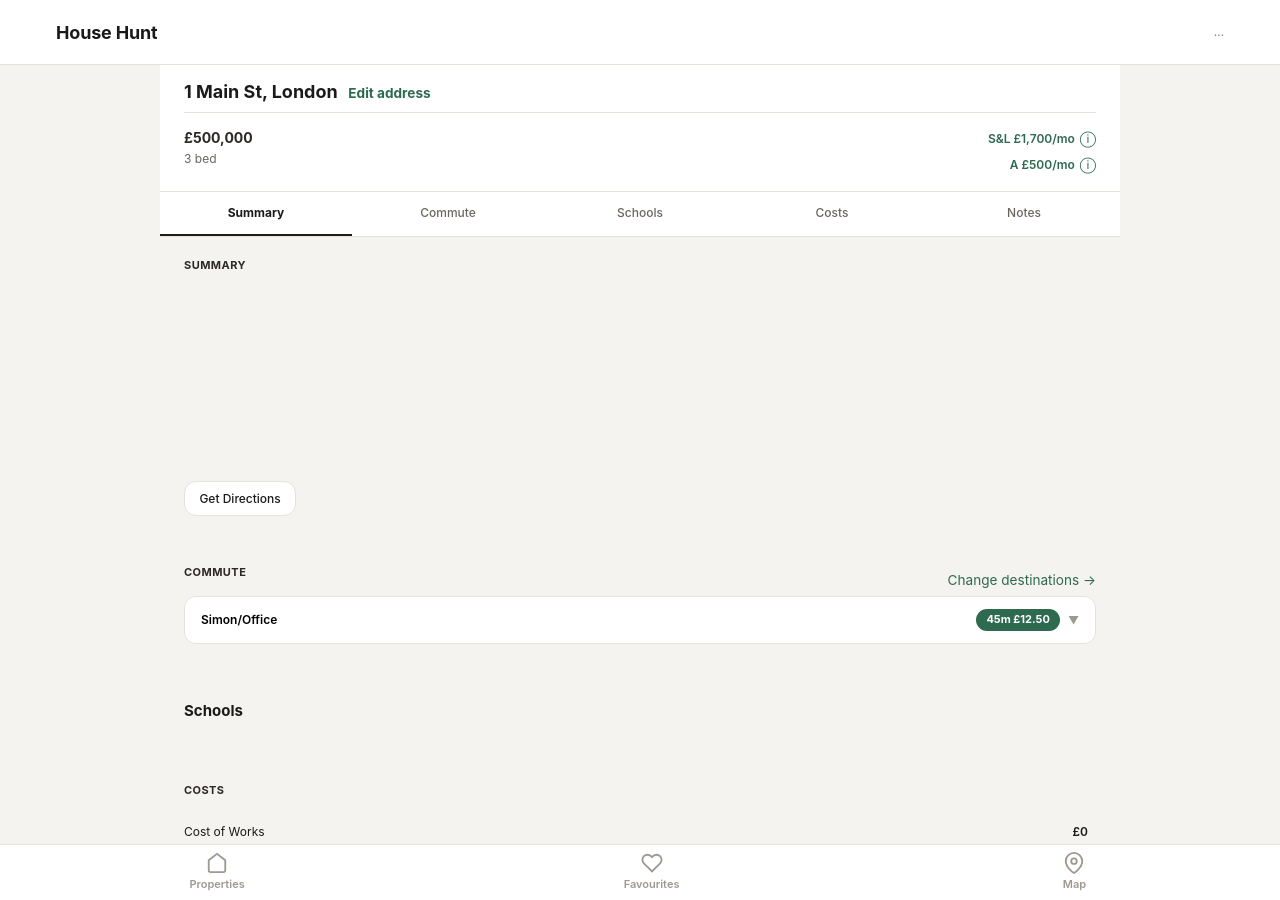
Test: PropertyDetail renders commute legs from CostGroups › renders leg details with mode and duration from nested CostGroups
The width and height of the screenshot is (1280, 900).
# Click accordion header to expand commute details
What coordinates should you click on to do the following:
click the button with class "commute-accordion__header"
I would click on:
 (239, 620)
Its box is [185, 597, 1095, 643].
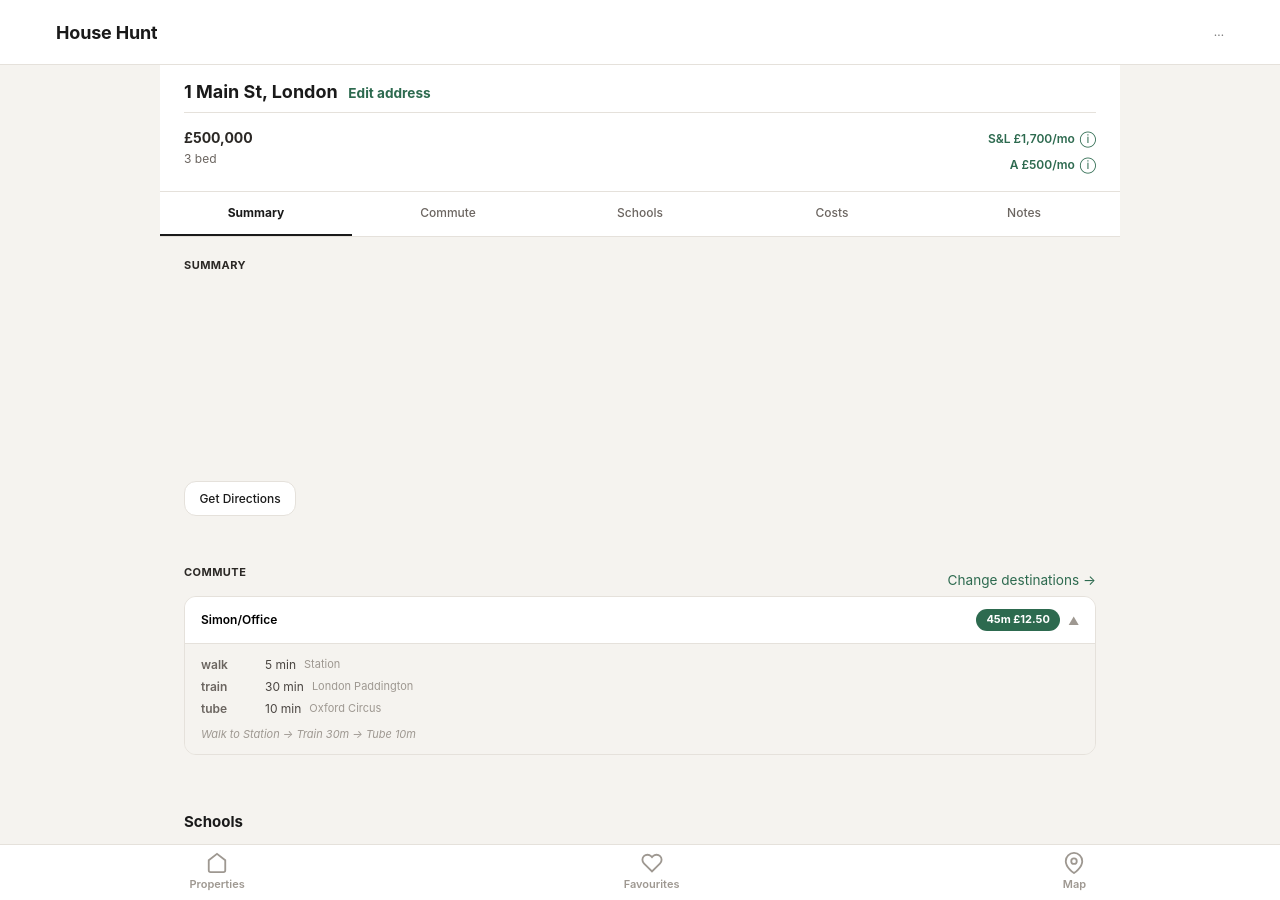
Expected: the text "walk" is shown, [201, 657, 228, 672]
Expected: the text "train" is shown, [201, 679, 227, 694]
Expected: the text "tube" is shown, [201, 701, 227, 716]
